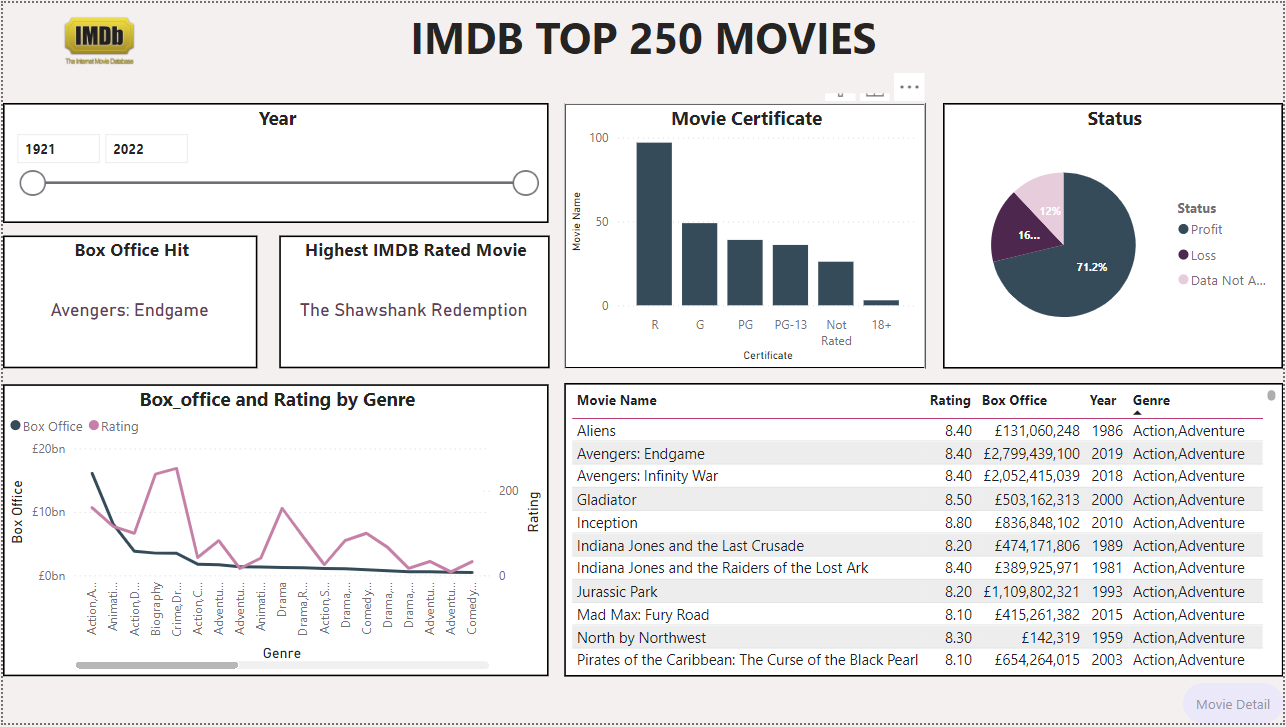

The page's visual inventory and layout, read from the dashboard file:
{"tool":"powerbi","page":{"name":"Home","canvas":[1280,720],"ordinal":0},"visuals":[{"type":"columnChart","title":"Movie Certificate","fields":{"Category":["IMDB Top 250 Movies.certificate"],"Y":["CountNonNull(IMDB Top 250 Movies.name)"]},"box":[561.4,100,361.4,265.7],"z":0},{"type":"pieChart","title":"Status","fields":{"Category":["IMDB Top 250 Movies.Status"],"Y":["CountNonNull(IMDB Top 250 Movies.name)"]},"box":[940,100,340,265.7],"z":1000},{"type":"tableEx","title":"Movies","fields":{"Values":["IMDB Top 250 Movies.name","Sum(IMDB Top 250 Movies.rating)","Sum(IMDB Top 250 Movies.box_office)","Sum(IMDB Top 250 Movies.year)","IMDB Top 250 Movies.Genre"]},"box":[561.3,380.3,719,293.5],"z":2000},{"type":"slicer","title":"Year","fields":{"Values":["IMDB Top 250 Movies.year"]},"box":[0,100,545.7,120],"z":3000},{"type":"card","title":"Highest IMDB Rated Movie","fields":{"Values":["Min(IMDB Top 250 Movies.name)"]},"box":[275.7,232.9,270,132.9],"z":4000},{"type":"card","title":"Box Office Hit","fields":{"Values":["Min(IMDB Top 250 Movies.name)"]},"box":[0,232.9,254.3,132.9],"z":5000},{"type":"lineChart","title":"Box_office and Rating by Genre","fields":{"Category":["IMDB Top 250 Movies.Genre"],"Y":["Sum(IMDB Top 250 Movies.box_office)"],"Y2":["Sum(IMDB Top 250 Movies.rating)"]},"box":[0,381.5,545.4,292.3],"z":6000},{"type":"textbox","box":[378.6,0,510,90],"z":7000},{"type":"image","box":[0,0,192.9,75.7],"z":8000},{"type":"actionButton","box":[1180,679.9,100.3,40.4],"z":8001}]}

Visuals, with their boxes in screenshot pixels (x1, y1, x2, y2), scaled from the page's 1280x720 canvas onto the 1286x727 screenshot:
"Movie Certificate" columnChart: Rect(564, 101, 927, 369)
"Status" pieChart: Rect(944, 101, 1285, 369)
"Movies" tableEx: Rect(564, 384, 1285, 680)
"Year" slicer: Rect(0, 101, 548, 222)
"Highest IMDB Rated Movie" card: Rect(277, 235, 548, 369)
"Box Office Hit" card: Rect(0, 235, 255, 369)
"Box_office and Rating by Genre" lineChart: Rect(0, 385, 548, 680)
textbox: Rect(380, 0, 893, 91)
image: Rect(0, 0, 194, 76)
actionButton: Rect(1186, 687, 1285, 726)
